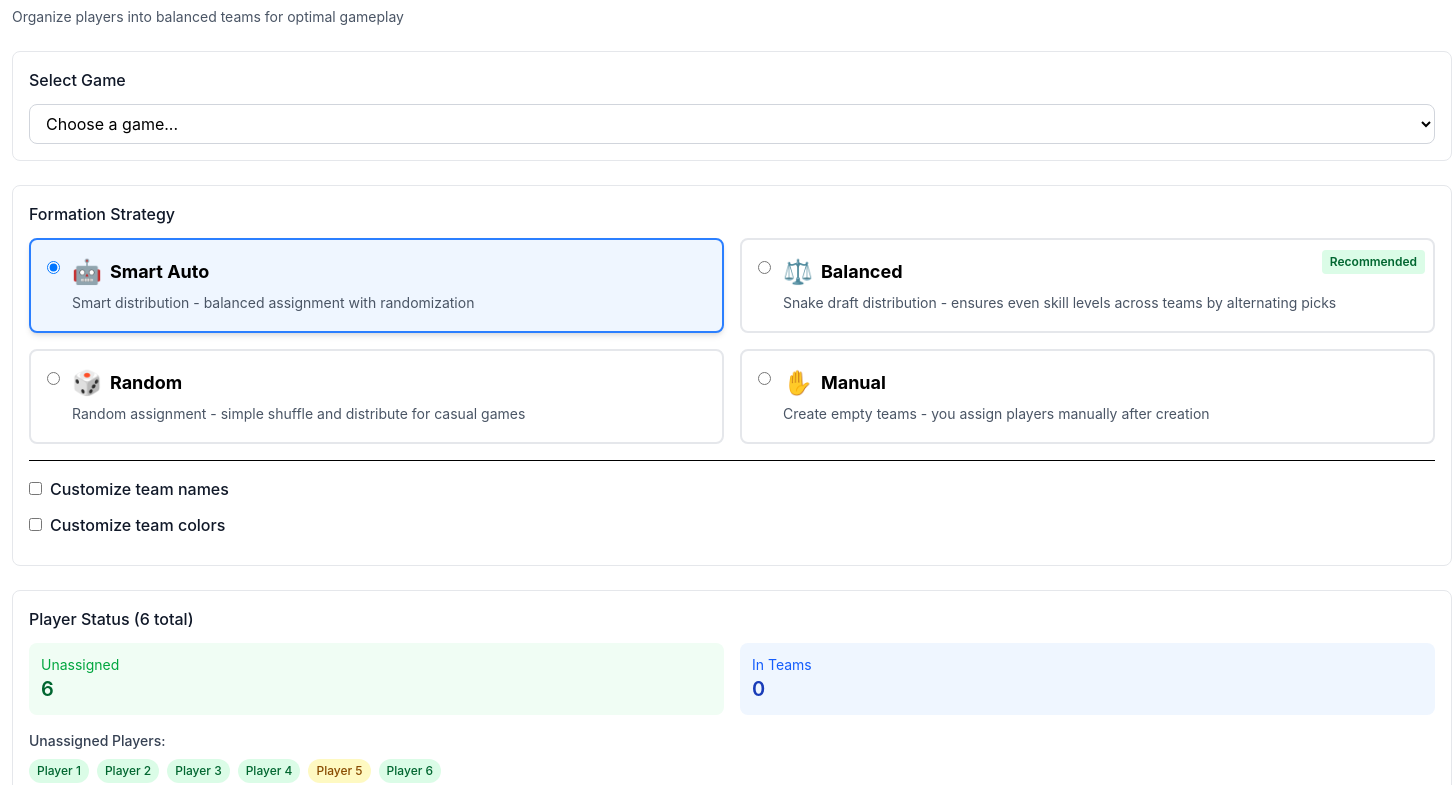
Test: TeamFormationInterface › Formation Suggestions Display › should display cons with amber warnings
Select "Capture the Flag (4-12 players)" in the dropdown: (732, 124) [29,104,1435,144]
(page scrolled)
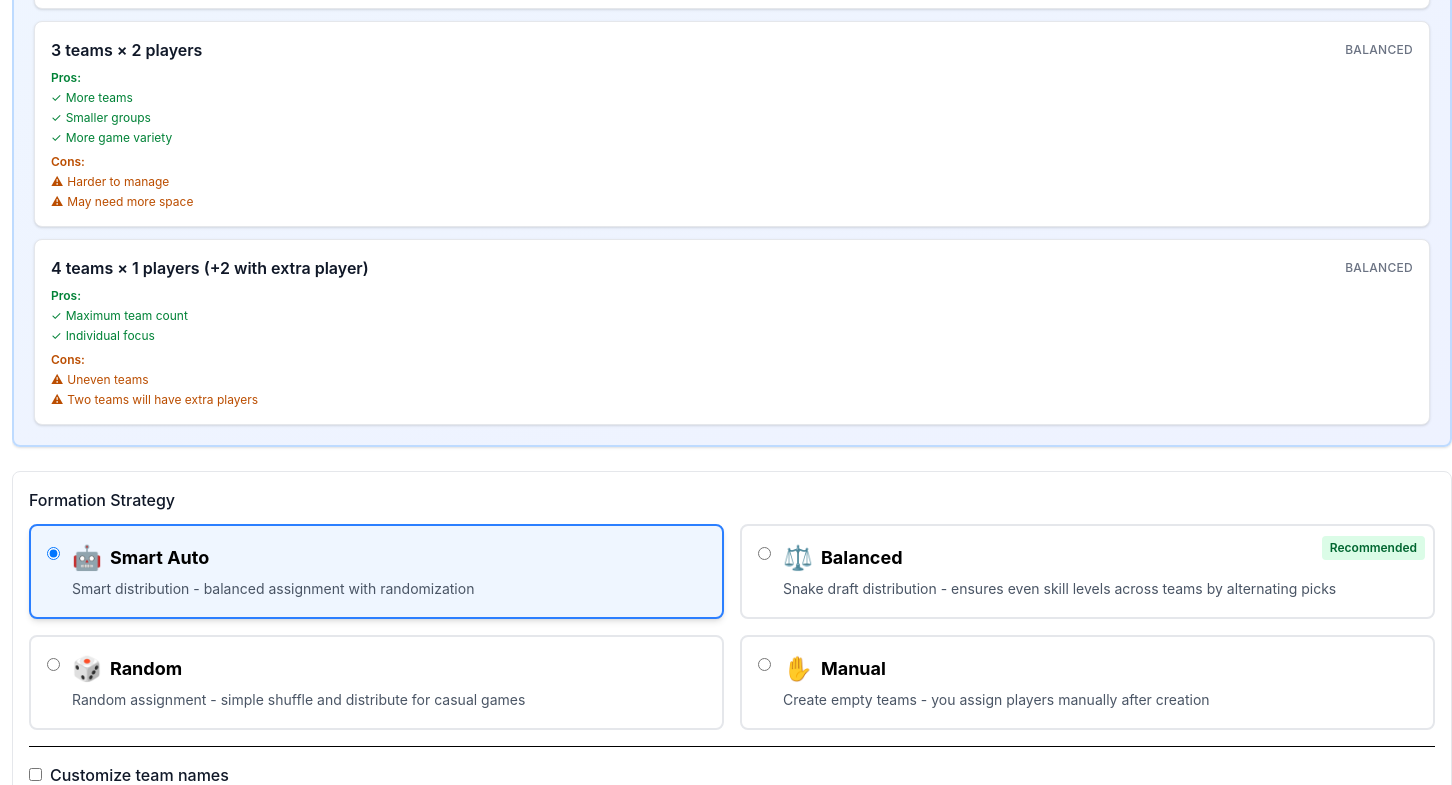
Check: the text "Uneven teams" is shown, box [67,372,149,388]
